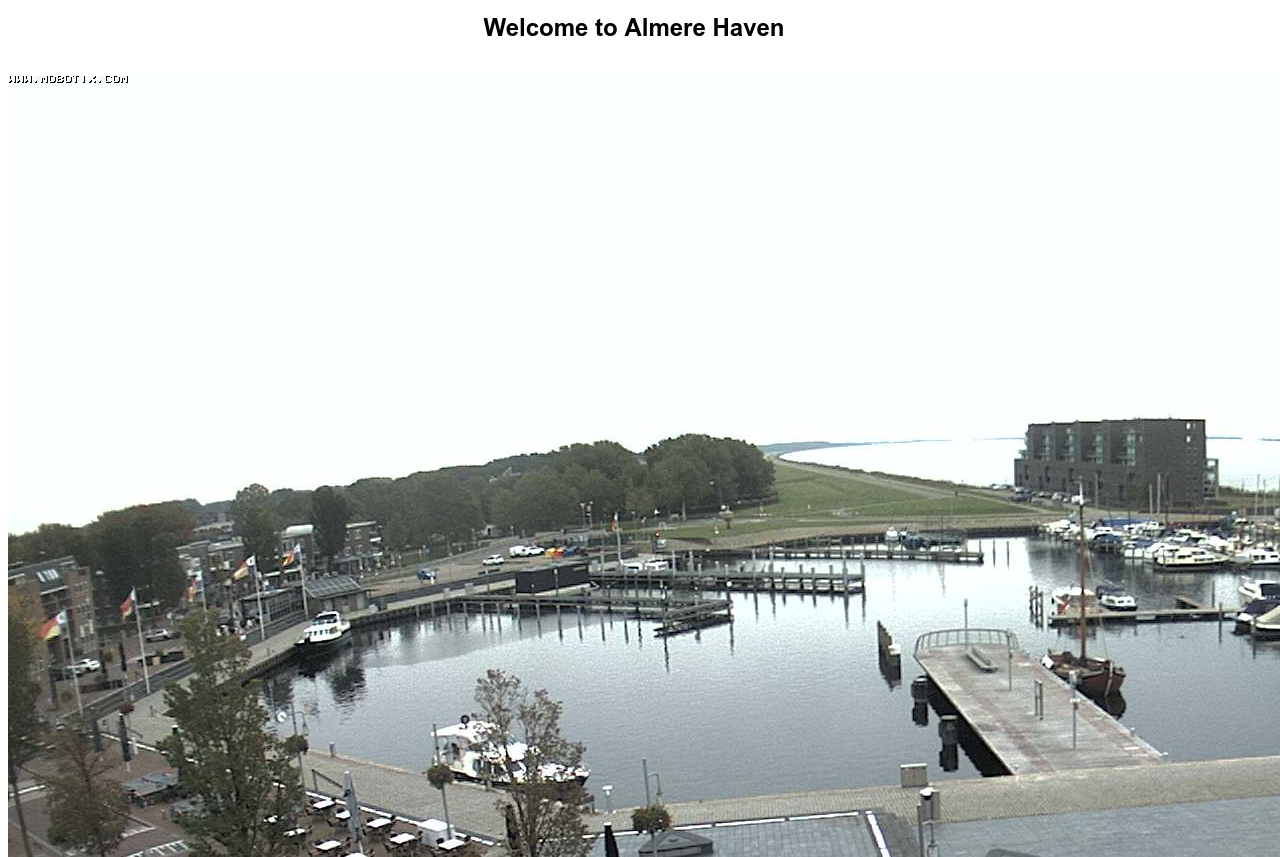maybe: (36, 603, 77, 643), (115, 577, 145, 619), (181, 562, 209, 599), (229, 550, 260, 582), (279, 540, 304, 568)
